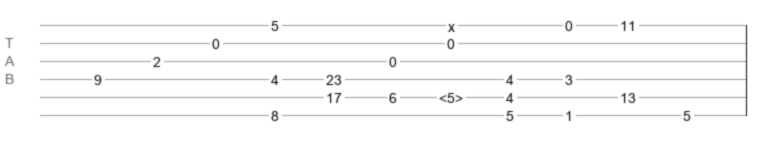0: (212, 36, 220, 46), (389, 54, 397, 64), (447, 36, 455, 46), (565, 18, 573, 28)
1: (565, 108, 573, 118)
11: (620, 18, 636, 28)
13: (620, 90, 636, 100)
17: (326, 90, 342, 100)
2: (153, 54, 161, 64)
23: (326, 72, 342, 82)
3: (565, 72, 573, 82)
4: (271, 72, 279, 82), (506, 90, 514, 100), (506, 72, 514, 82)
5: (271, 18, 279, 28), (506, 108, 514, 118), (683, 108, 691, 118)
6: (389, 90, 397, 100)
8: (271, 108, 279, 118)
9: (94, 72, 102, 82)
harmonic: (439, 90, 463, 100)
x: (448, 19, 455, 27)
